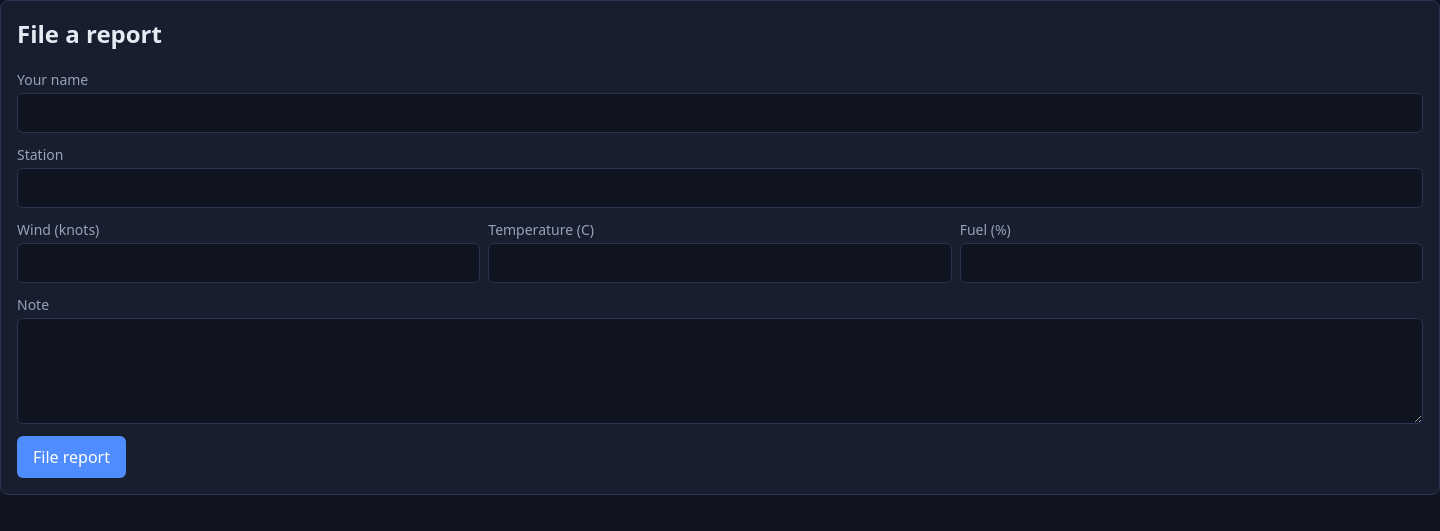
ReportForm › shows a general message when the server is unreachable
In the field labelled "Your name": (720, 113) [17,93,1423,133], type "Ada"
In the field labelled "Station": (720, 188) [17,168,1423,208], type "Propulsion-2"
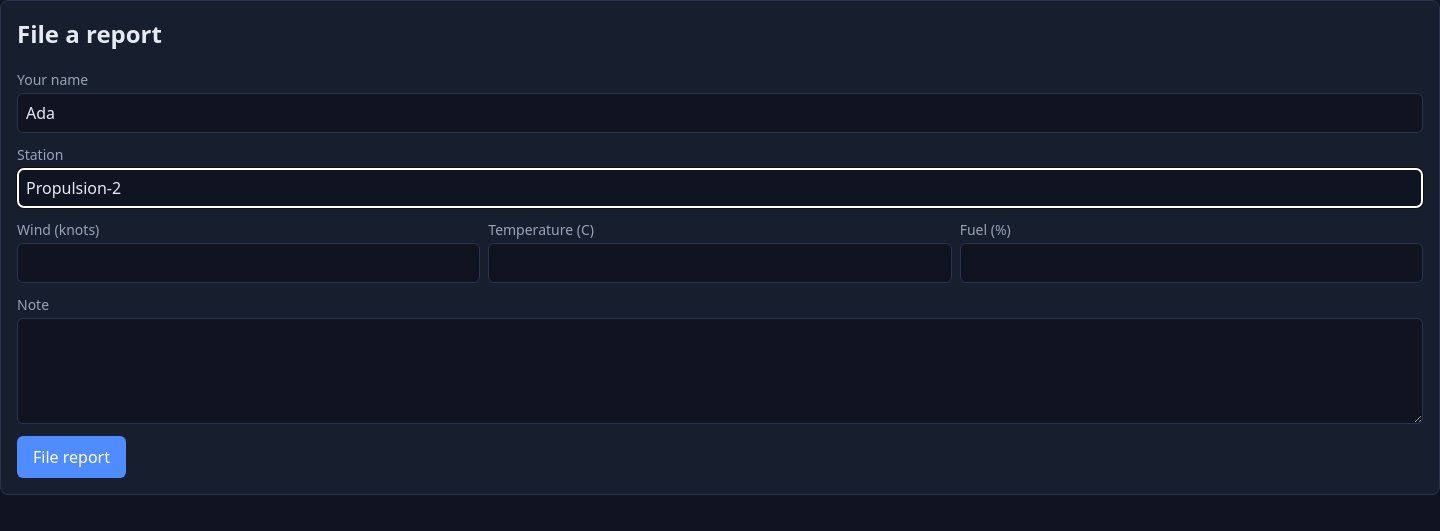
In the number field labelled "Wind (knots)": (249, 263) [17,243,480,283], type "12.5"
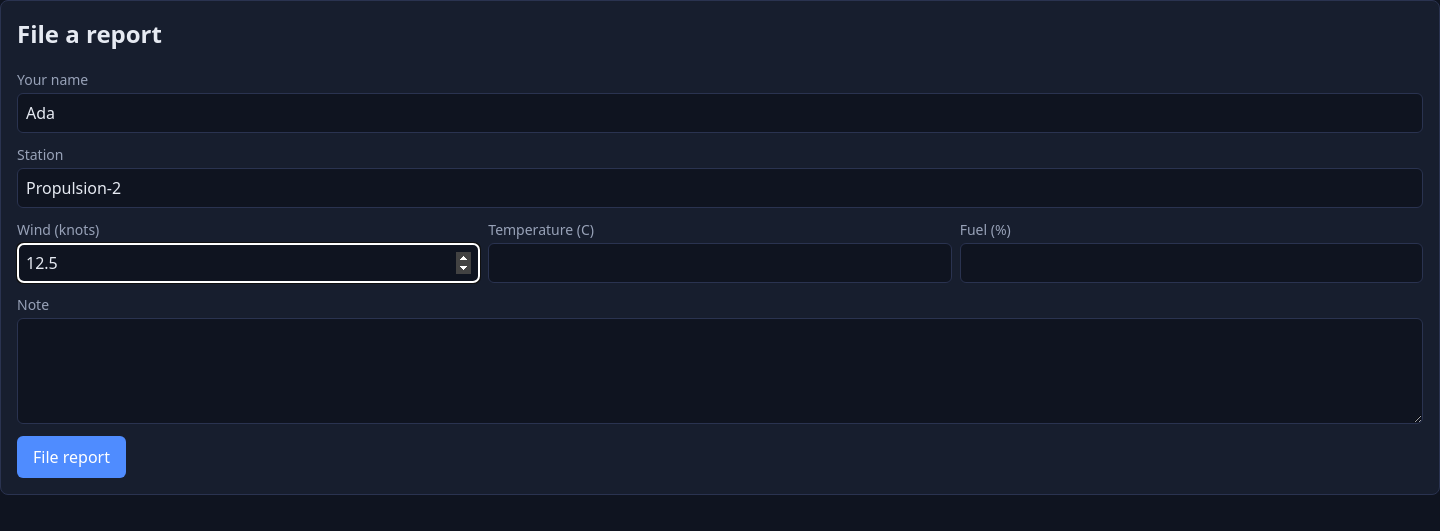
In the number field labelled "Temperature (C)": (720, 263) [488,243,952,283], type "18"
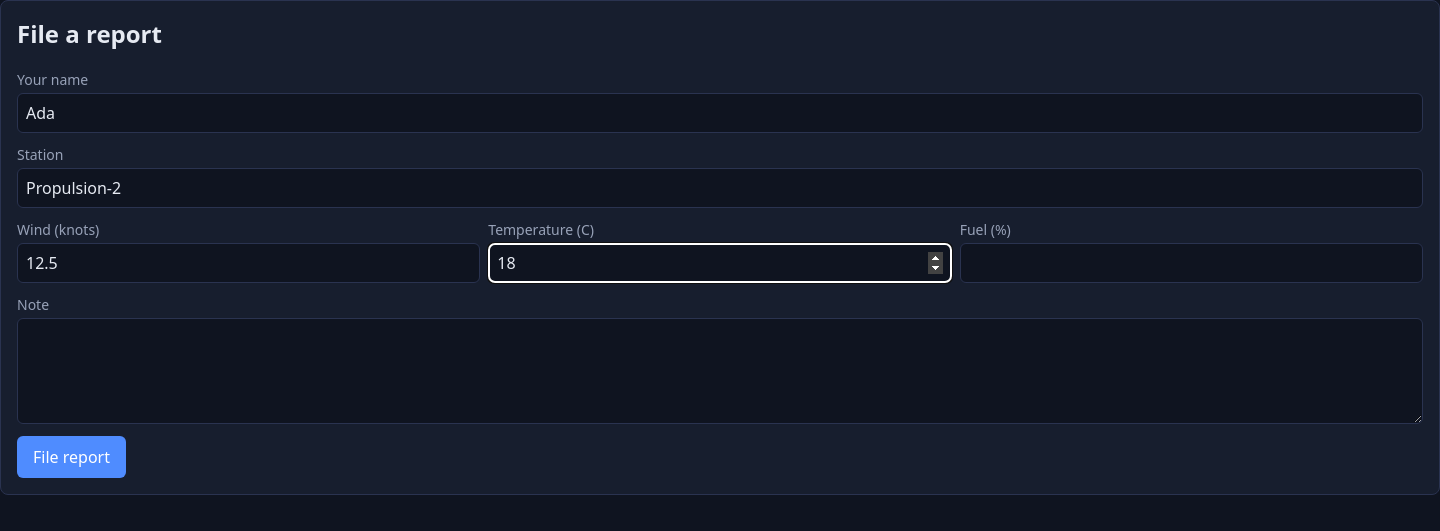
In the number field labelled "Fuel (%)": (1191, 263) [960,243,1423,283], type "99.2"
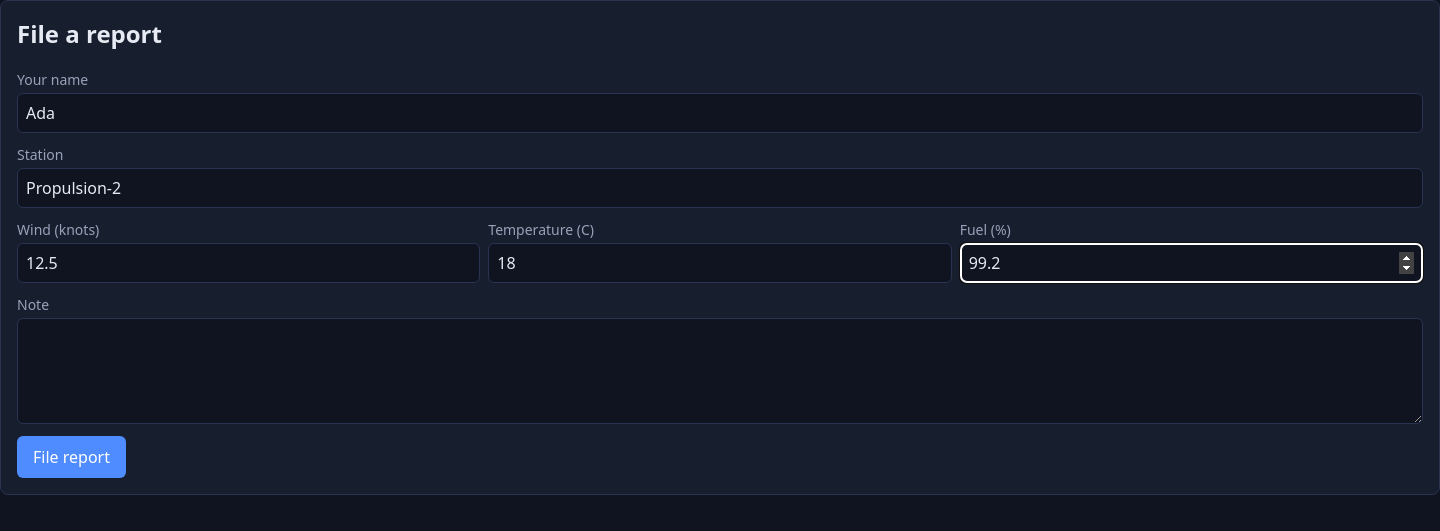
In the text box labelled "Note": (720, 371) [17,318,1423,424], type "Valve stuck briefly"
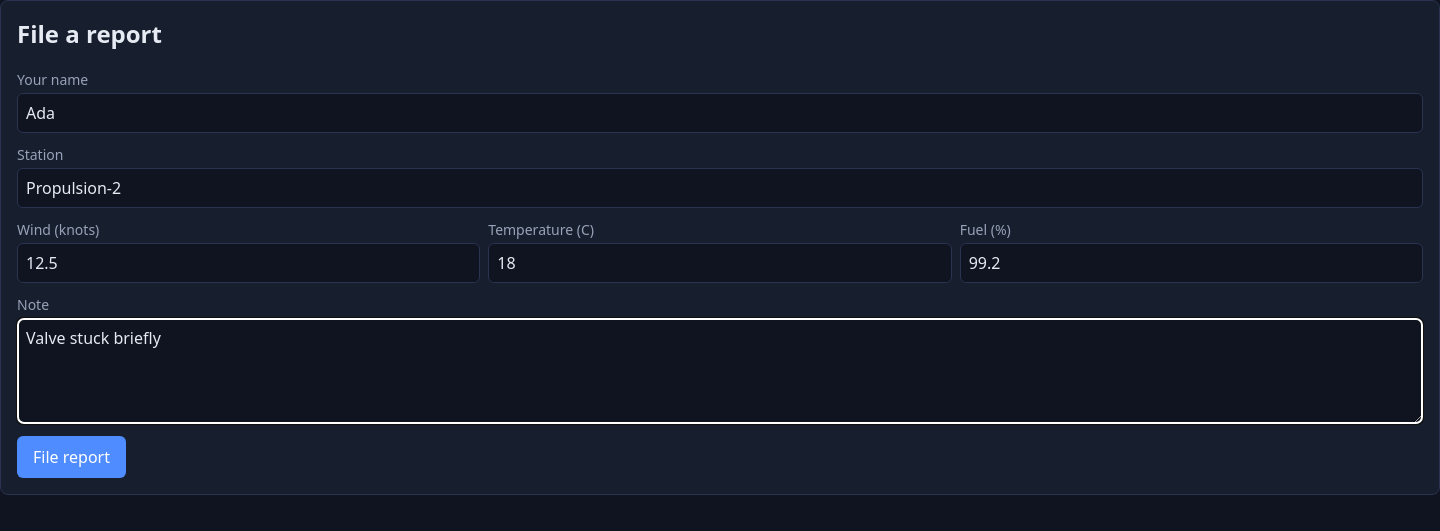
Click the button "File report": (72, 457) [17,436,126,478]
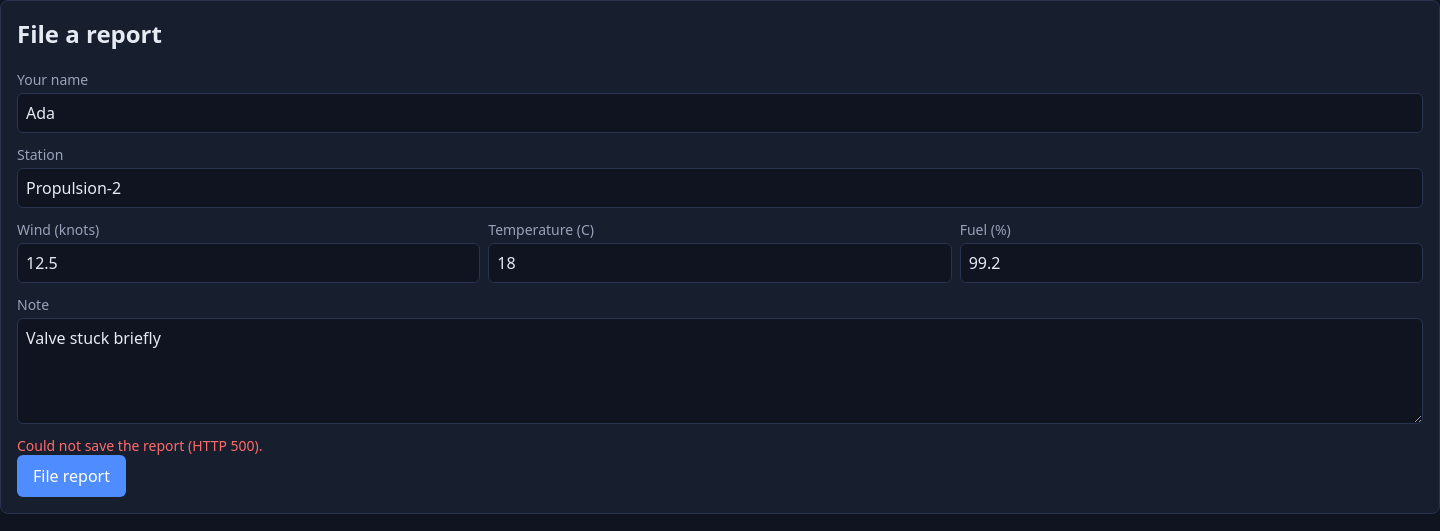
Expected: the text "Could not save the report (HTTP 500)." is shown, [17,436,263,455]
